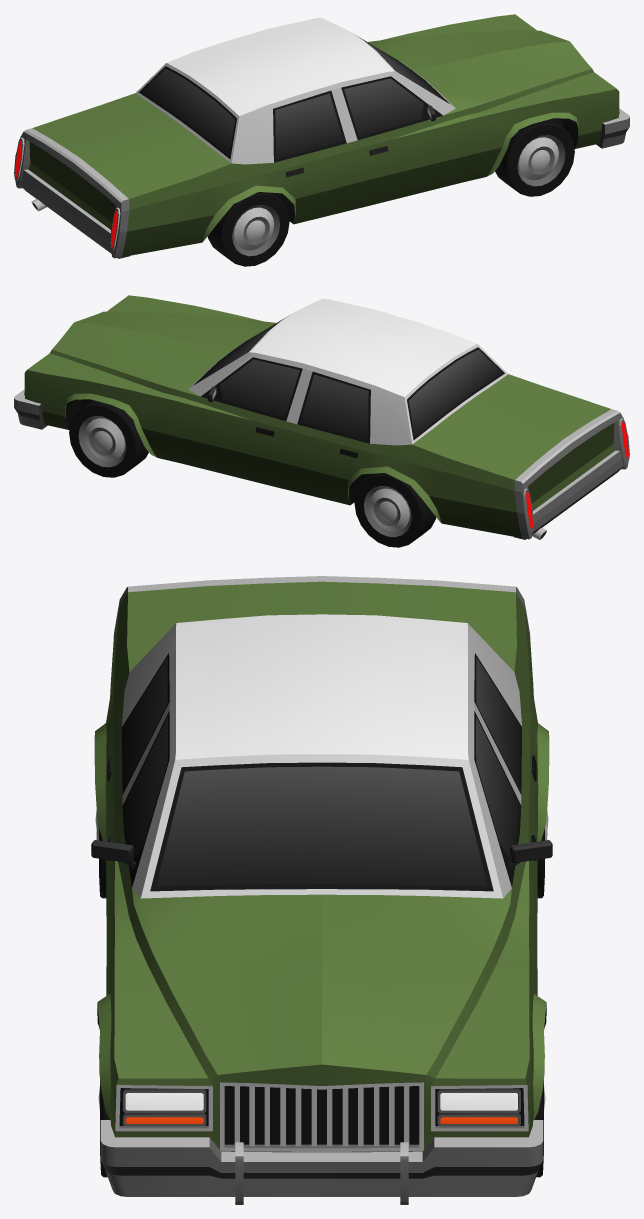
The model's file is Car_118.glb.
3 views of the same model, one above another, from view 1: azimuth 30°, elevation 25°; view 2: azimuth 150°, elevation 25°; view 3: azimuth 270°, elevation 25° (orthographic). The views are drawn at different scales.
Visible parts, largest first — view 1: Car_118, wheel_1_Car_118_Wheel_1R, wheel_3_Car_118_Wheel_2R; view 2: Car_118, wheel_0_Car_118_Wheel_1L, wheel_2_Car_118_Wheel_2L; view 3: Car_118.
Boxes of the visible parts, bbox=[...] form: Car_118: bbox=[14, 14, 629, 258]; wheel_1_Car_118_Wheel_1R: bbox=[495, 119, 574, 196]; wheel_3_Car_118_Wheel_2R: bbox=[207, 192, 289, 266]; Car_118: bbox=[14, 295, 629, 539]; wheel_0_Car_118_Wheel_1L: bbox=[69, 400, 148, 477]; wheel_2_Car_118_Wheel_2L: bbox=[354, 473, 436, 547]; Car_118: bbox=[91, 576, 552, 1204].
Bounding box in the file's own units: 5.13 × 1.41 × 1.98.
2 materials, 2 textured.
